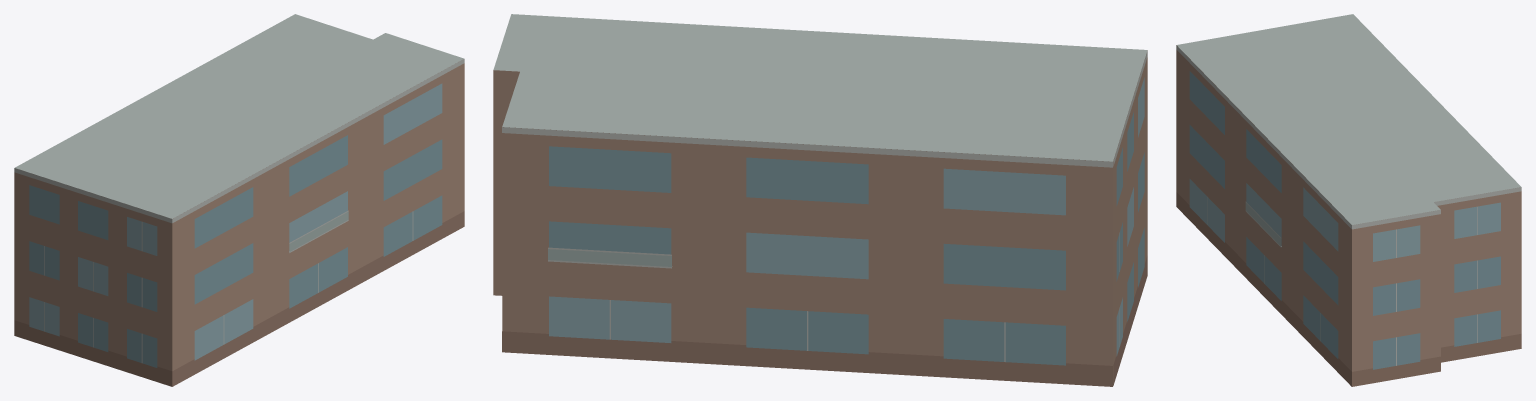
Rendered from survey-upis-32904559.glb.
The picture shows the model from 3 angles, left to right: view 1: azimuth 30°, elevation 25°; view 2: azimuth 150°, elevation 25°; view 3: azimuth 270°, elevation 25°; orthographic projection. The views are drawn at different scales.
Visible parts, largest first — view 1: survey-upis-32904559.tmp; view 2: survey-upis-32904559.tmp; view 3: survey-upis-32904559.tmp.
Boxes of the visible parts, x1,y1,x2,y2 form: survey-upis-32904559.tmp: (14,14,464,386); survey-upis-32904559.tmp: (493,14,1147,386); survey-upis-32904559.tmp: (1176,14,1521,386).
Size of the model in its own units: 25.63 by 9.15 by 17.71.
